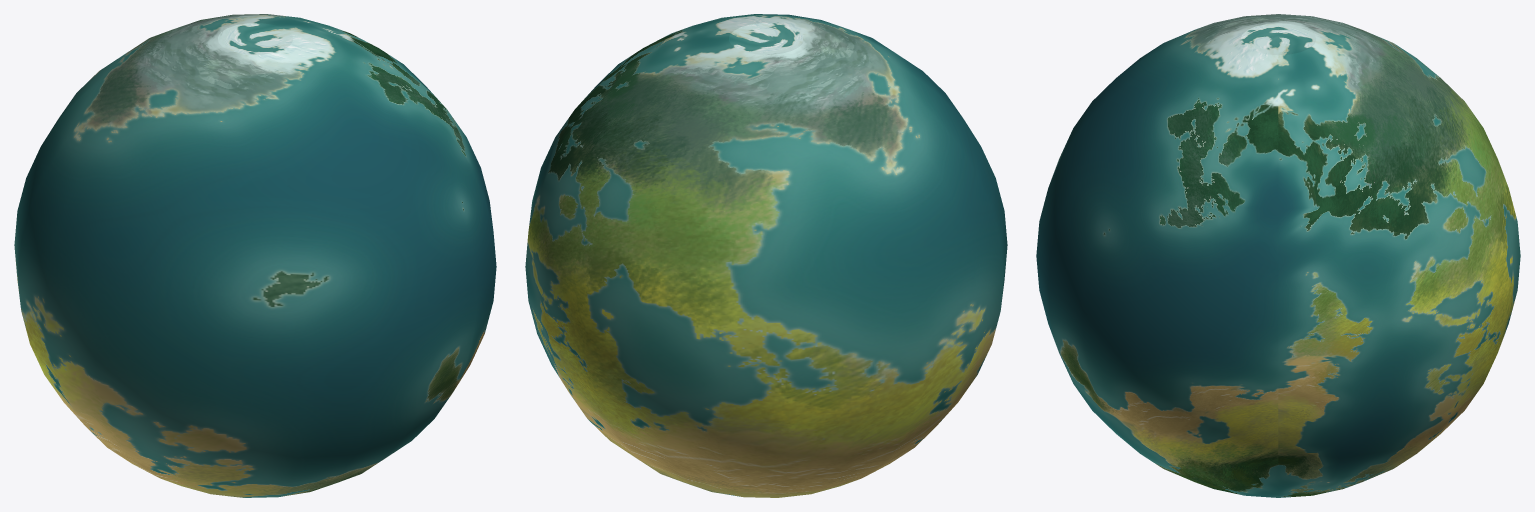
Rendered from guiGlobe.fbx.
3 renders of one model, left to right at view 1: azimuth 30°, elevation 25°; view 2: azimuth 150°, elevation 25°; view 3: azimuth 270°, elevation 25°, orthographic.
Parts seen in each view (by area): view 1: pSphere1; view 2: pSphere1; view 3: pSphere1.
Boxes of the visible parts, bbox=[...] form: pSphere1: bbox=[14, 14, 496, 497]; pSphere1: bbox=[525, 14, 1007, 497]; pSphere1: bbox=[1036, 14, 1520, 497].
Size of the model in its own units: 13.05 by 12.89 by 13.05.
1 material, 1 textured.
